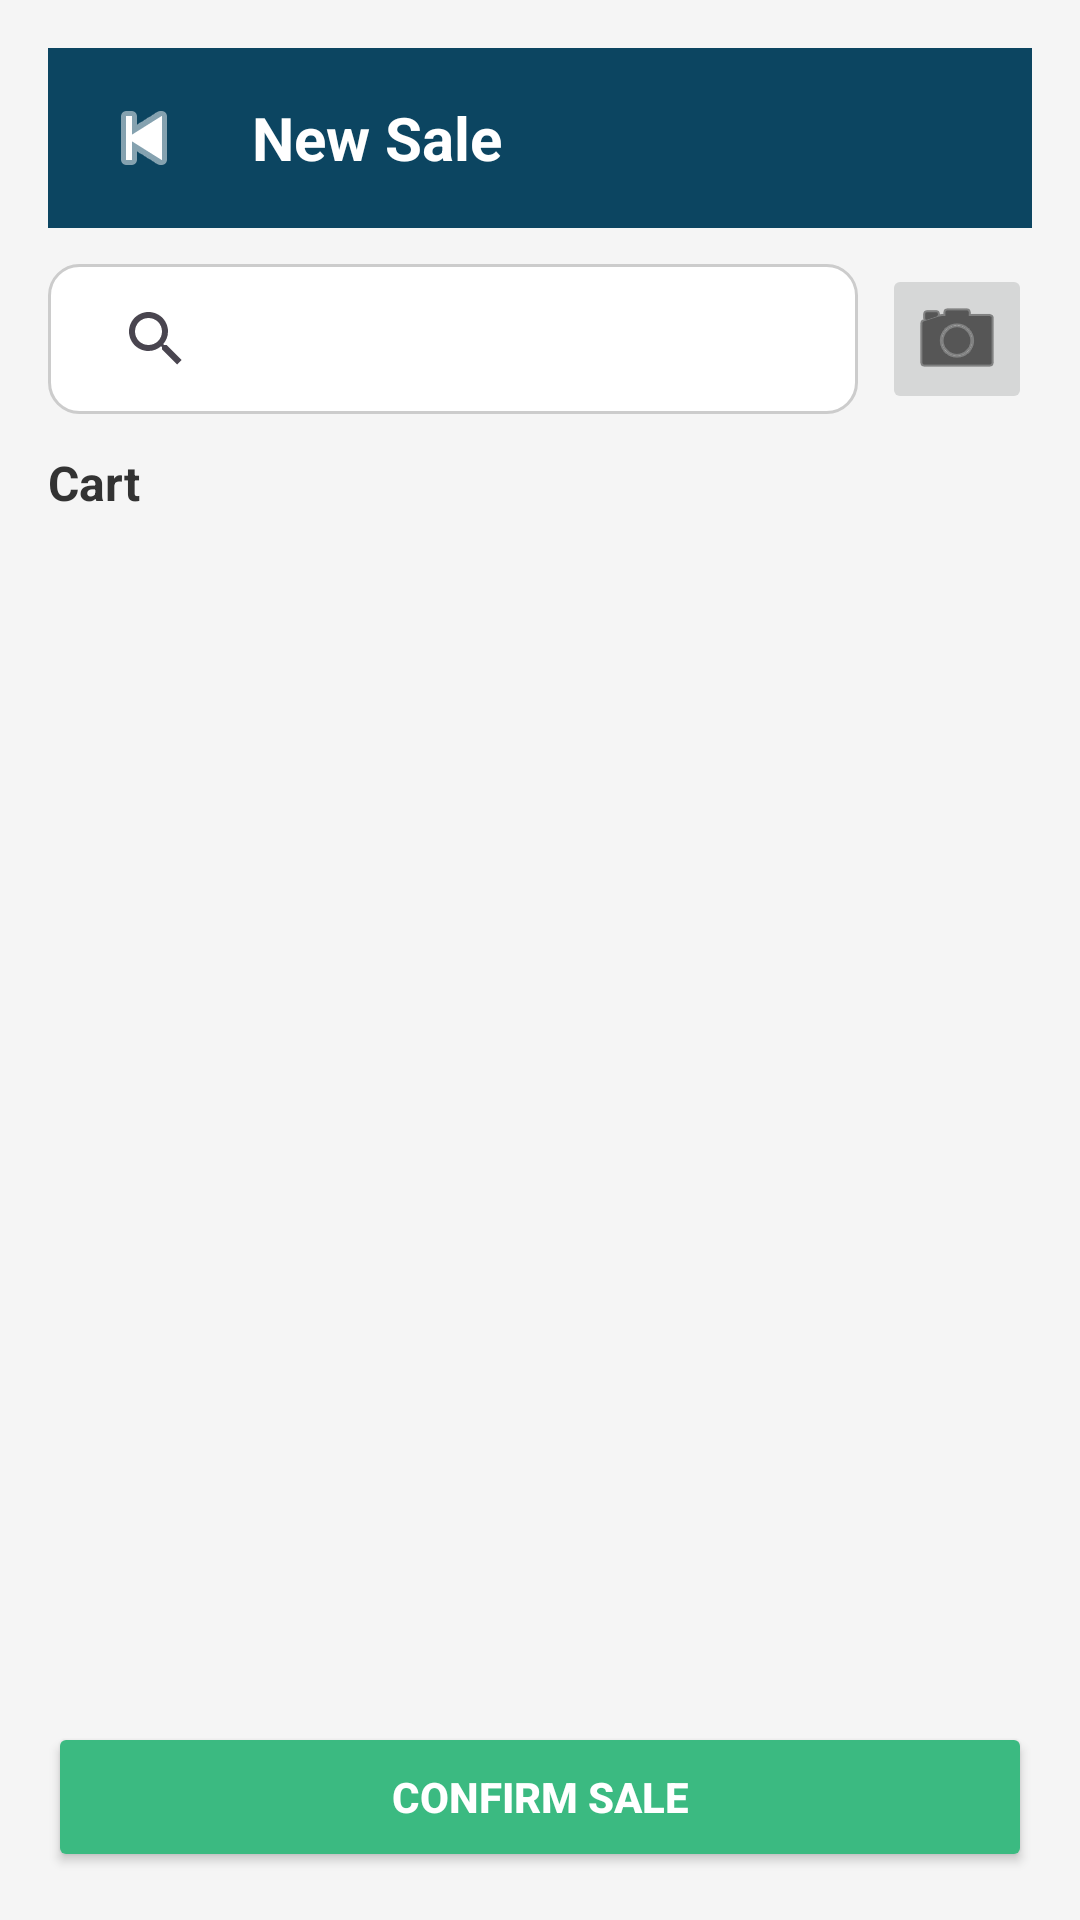

Named icons in this screenshot (1080×1920) and their bounding boxes, (x1, y1, x2, y2):
Back: (121, 111, 167, 165)
